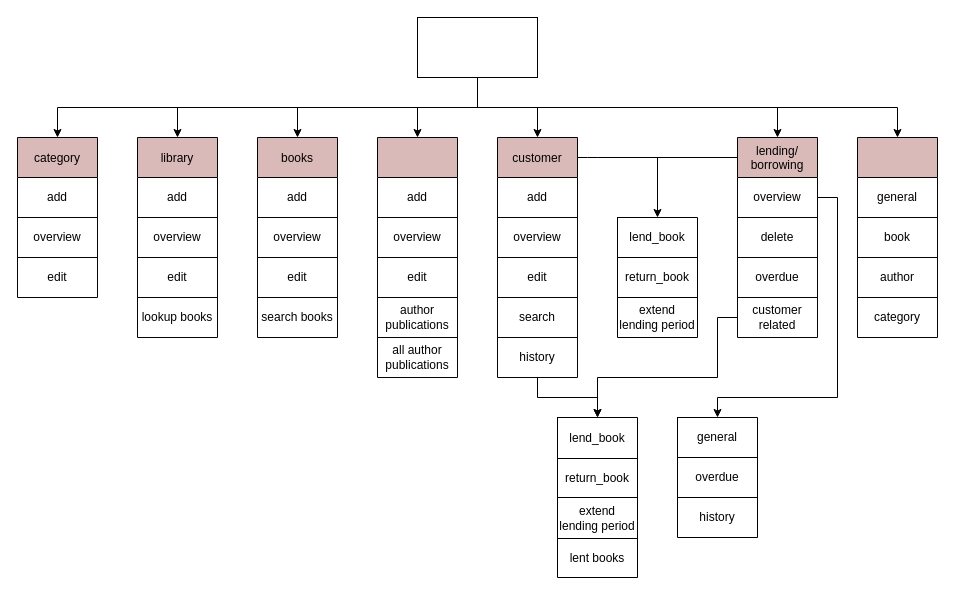
The diagram is 955 pixels wide and 595 high, and some of its shapes have lost their labels. The shapes that lost their labels are listed below. From the top down, each one's box as (x1, y1, x2, y2) in pixels, then its label:
(416, 16, 538, 78): main_menu
(376, 136, 458, 378): authors
(856, 136, 938, 338): analytic
